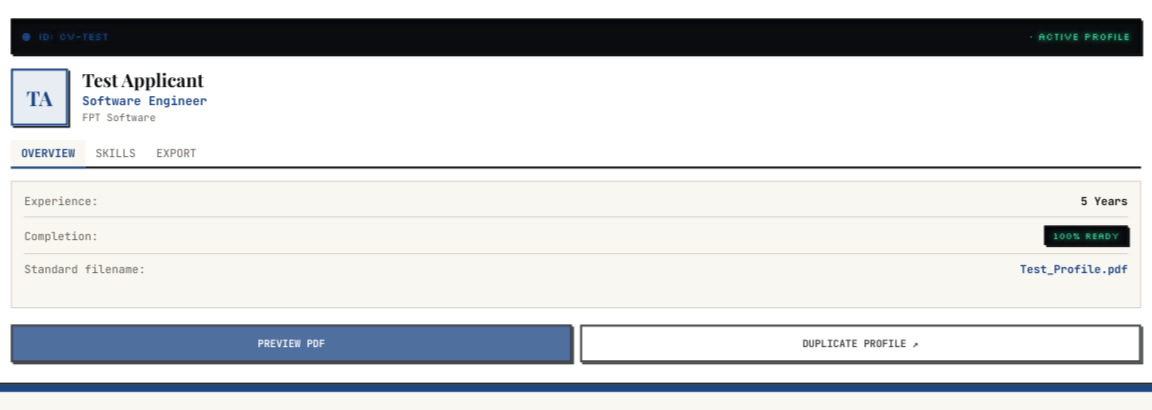
Test: ProfileCardComponent › updates the accessible tab panel when a tab is selected
Click the tab "export" at [176, 154], box [146,140,207,169]
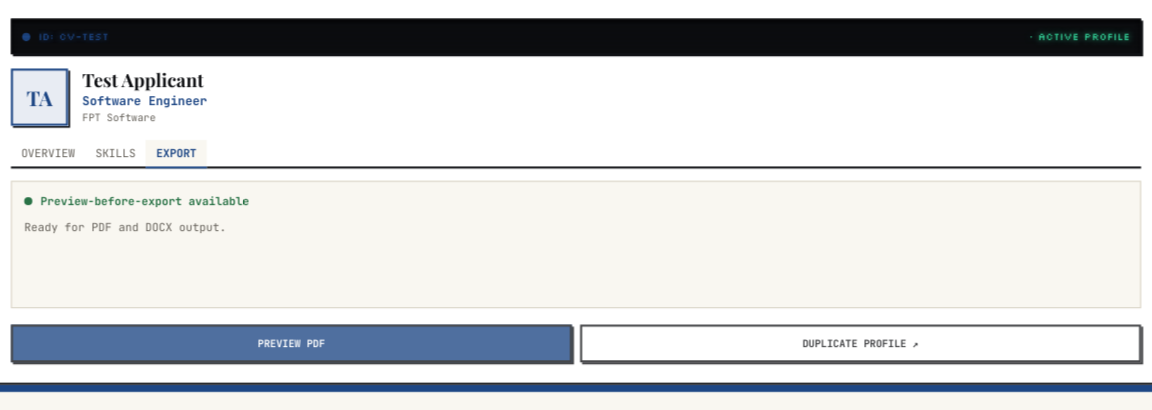
Result: the panel shows "PDF and DOCX output" at [24,220,226,234]
